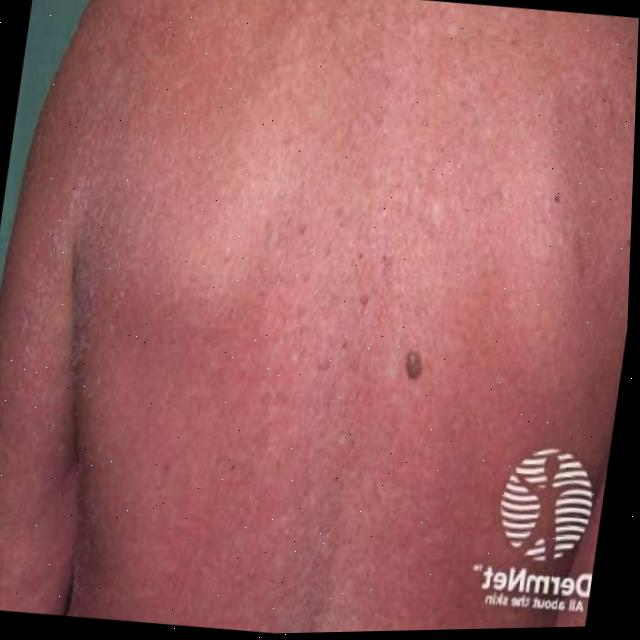Eczema: (0, 66, 170, 464)
